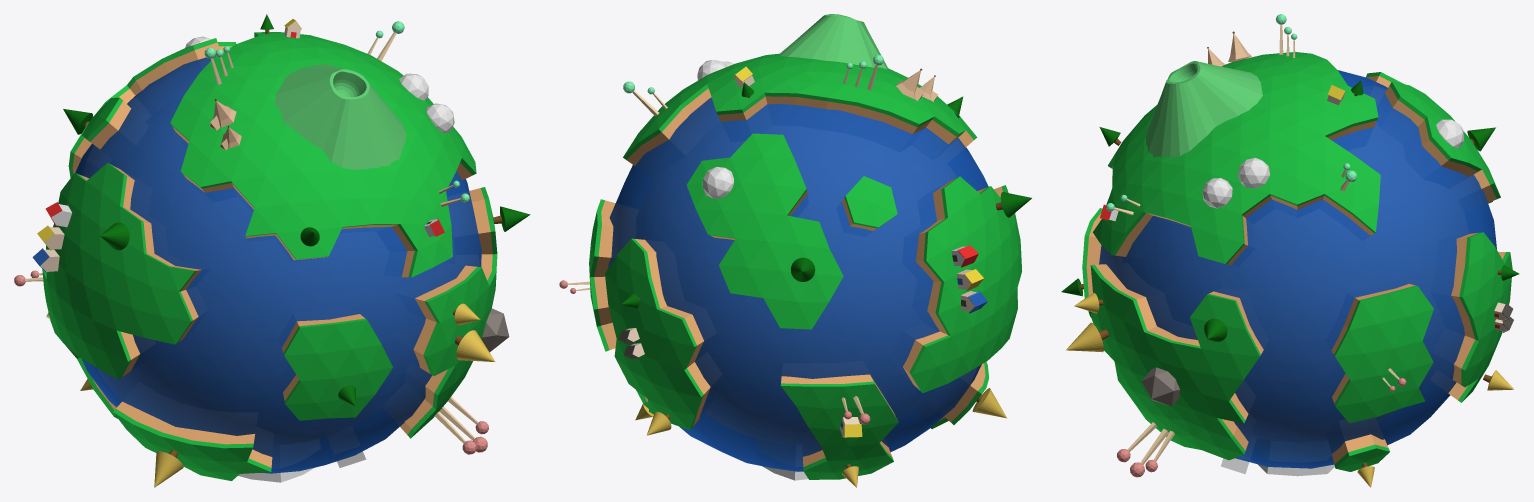
File: earth_sphere.glb
3 renders of one model, left to right at view 1: azimuth 30°, elevation 25°; view 2: azimuth 150°, elevation 25°; view 3: azimuth 270°, elevation 25°, orthographic. The views are drawn at different scales.
Visible parts, largest first — view 1: Earth, Sea, Yama, Tree.016, Stone, Tree.019, camp1.004, Tree.010; view 2: Earth, Sea, Yama, camp1, Tree.019, Tree.010; view 3: Earth, Sea, Yama, Stone, camp1.003, Tree.016, camp1.004, camp1.
Part boxes in pixels (<box>): Earth: <box>42,32,497,482</box>; Sea: <box>75,55,481,473</box>; Yama: <box>275,64,406,169</box>; Tree.016: <box>455,330,495,361</box>; Stone: <box>481,308,509,352</box>; Tree.019: <box>154,450,183,487</box>; camp1.004: <box>426,103,454,132</box>; Tree.010: <box>100,222,129,250</box>; Earth: <box>589,53,1021,480</box>; Sea: <box>608,97,988,471</box>; Yama: <box>778,14,887,69</box>; camp1: <box>702,167,733,198</box>; Tree.019: <box>972,388,1006,418</box>; Tree.010: <box>995,192,1031,217</box>; Earth: <box>1082,52,1512,476</box>; Sea: <box>1099,70,1496,468</box>; Yama: <box>1145,61,1262,157</box>; Stone: <box>1141,367,1180,406</box>; camp1.003: <box>1238,157,1269,188</box>; Tree.016: <box>1066,322,1108,352</box>; camp1.004: <box>1202,178,1232,208</box>; camp1: <box>1436,119,1463,148</box>.
Size of the model in its own units: 26.32 by 26.13 by 26.11.
